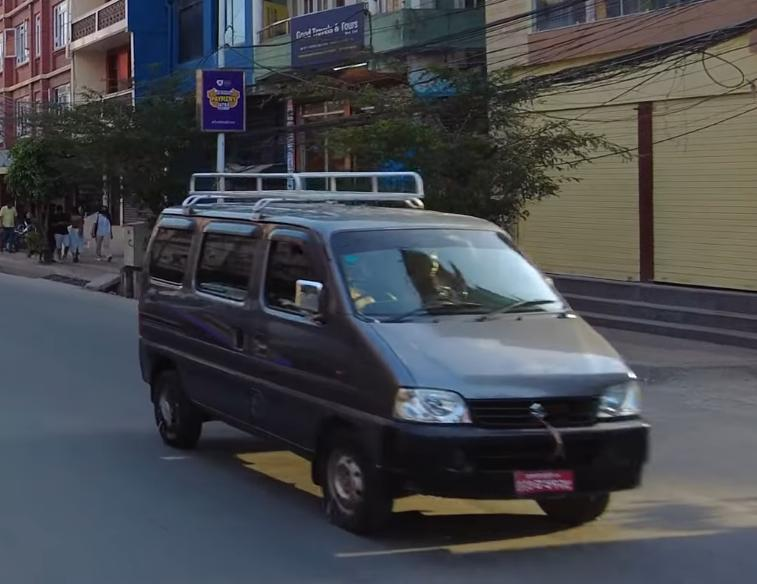van: (124, 151, 658, 538)
